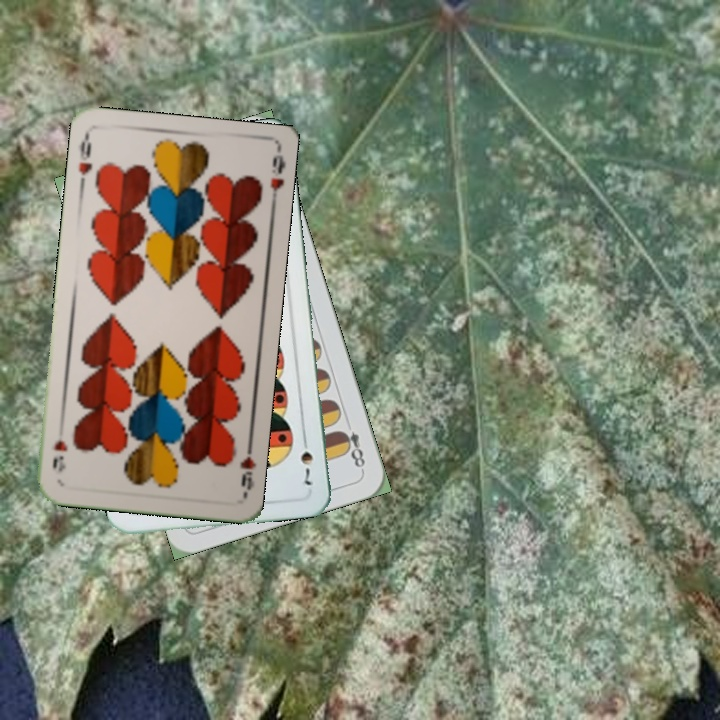E8: (336, 426, 368, 473)
H9: (236, 438, 258, 497), (74, 131, 95, 190)
S7: (296, 431, 315, 488)
